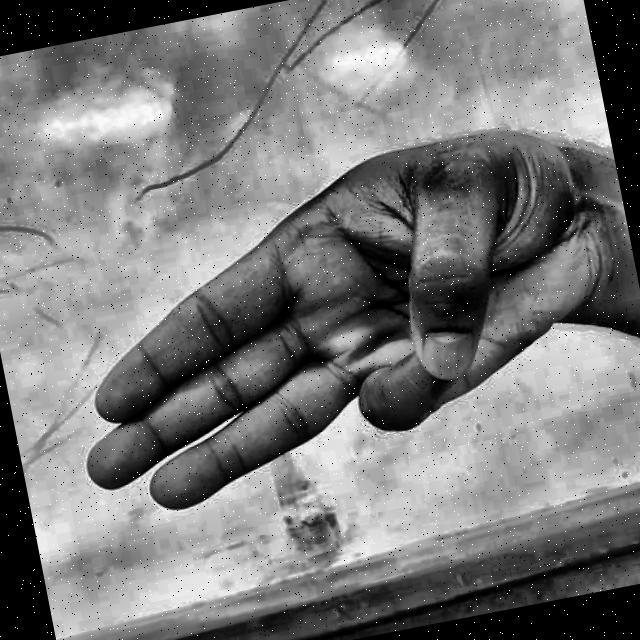Ma: (9, 89, 636, 553)
